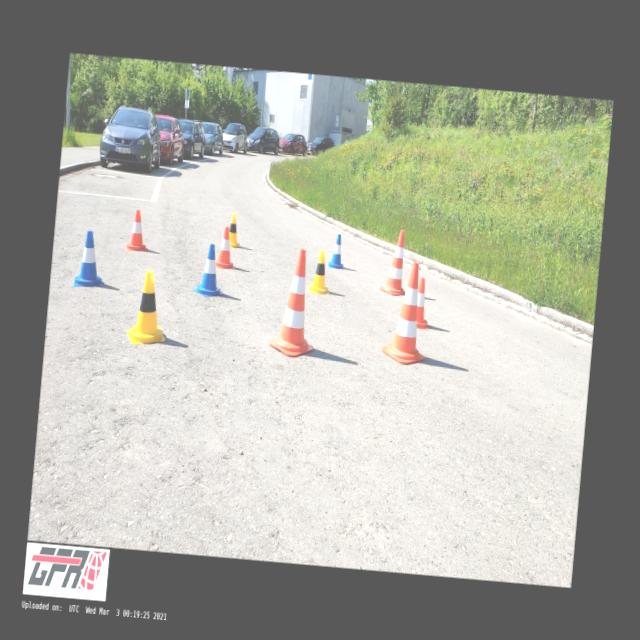blue_cone: (192, 242, 227, 298), (74, 230, 105, 288), (327, 232, 346, 268)
large_orange_cone: (268, 245, 322, 358), (380, 260, 432, 365), (379, 228, 410, 296)
orange_cone: (125, 208, 150, 252), (215, 226, 238, 268), (414, 277, 432, 330)
yellow_cone: (126, 269, 170, 347), (306, 248, 332, 294), (228, 213, 242, 248)
